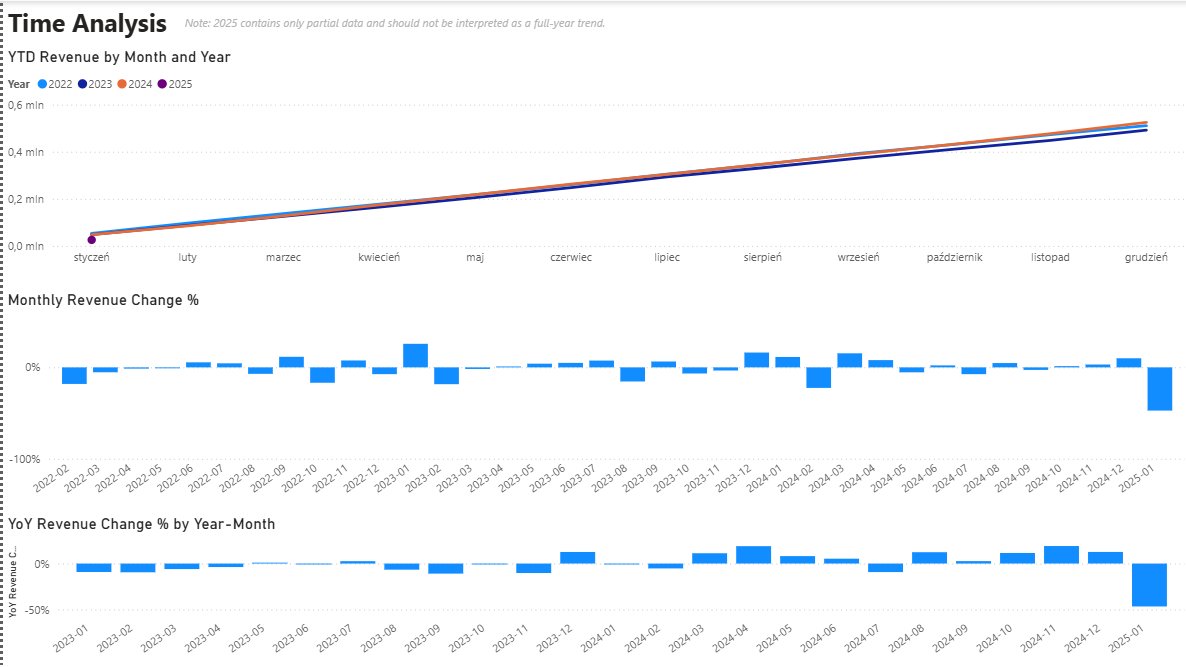

The page's visual inventory and layout, read from the dashboard file:
{"tool":"powerbi","page":{"name":"Time Analysis","canvas":[1280,720],"ordinal":1},"visuals":[{"type":"lineChart","title":"YTD Revenue by Month and Year","fields":{"Y":["DimDate.YTD Revenue"],"Category":["DimDate.Month Name"],"Series":["DimDate.Year"]},"box":[0,50.5,1280.4,243.8],"z":0},{"type":"textbox","box":[0,0,191.5,50.5],"z":1000},{"type":"columnChart","title":"Monthly Revenue Change %","fields":{"Category":["DimDate.Year-Month"],"Y":["DimDate.MoM Revenue Change %"]},"box":[0,313,1280.4,240.3],"z":2000},{"type":"textbox","box":[191.5,8,532.9,35.5],"z":3000},{"type":"columnChart","title":"YoY Revenue Change % by Year-Month","fields":{"Y":["DimDate.YoY Revenue Change %"],"Category":["DimDate.Year-Month"]},"box":[0,553.3,1280.4,166.7],"z":4000}]}

Visuals, with their boxes in screenshot pixels (x1, y1, x2, y2), scaled from the page's 1280x720 canvas onto the 1186x667 screenshot:
"YTD Revenue by Month and Year" lineChart: (x1=0, y1=47, x2=1185, y2=273)
textbox: (x1=0, y1=0, x2=177, y2=47)
"Monthly Revenue Change %" columnChart: (x1=0, y1=290, x2=1185, y2=513)
textbox: (x1=177, y1=7, x2=671, y2=40)
"YoY Revenue Change % by Year-Month" columnChart: (x1=0, y1=513, x2=1185, y2=666)
